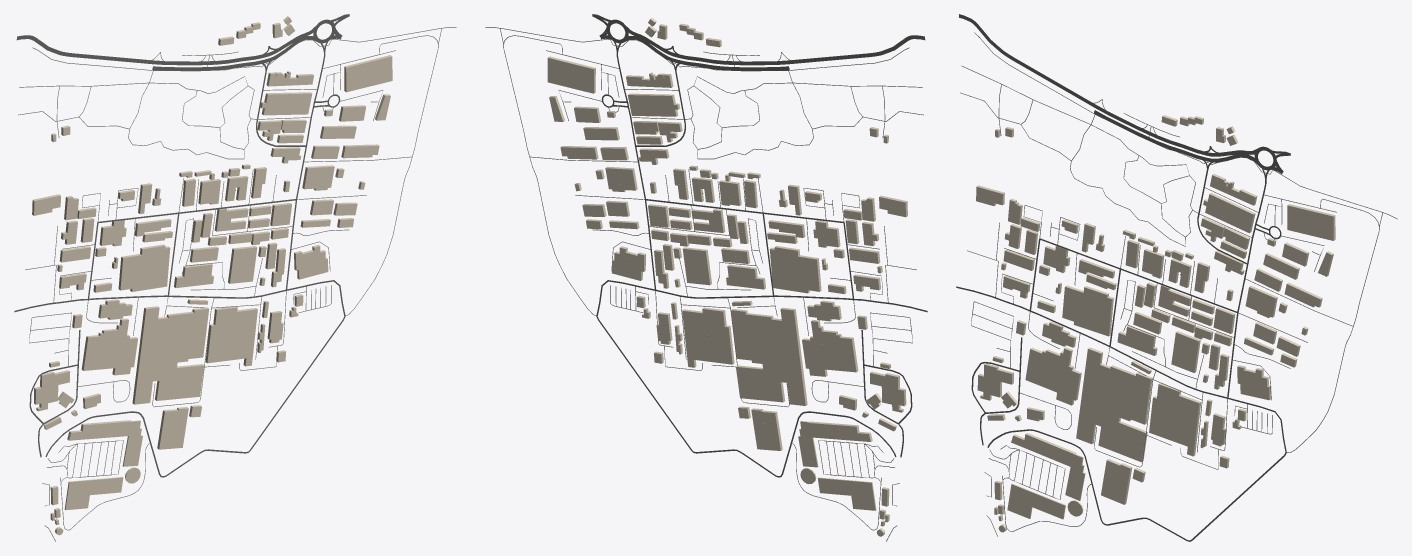
File: historic-palestine-14_37_3557_3319.glb
3 renders of one model, left to right at view 1: azimuth 30°, elevation 25°; view 2: azimuth 150°, elevation 25°; view 3: azimuth 330°, elevation 25°, orthographic.
Parts seen in each view (by area): view 1: Building_.033, Building_.043, Building_.028, Building_.064, Road הנרייטה סולד.001, Building_.004, Building_.001, Building_.013, Building_.007, Building_.003, Building_.019, Building_.040 (+10 smaller); view 2: Building_.033, Building_.043, Building_.028, Building_.064, Road הנרייטה סולד.001, Building_.004, Building_.001, Building_.013, Building_.007, Building_.003, Building_.019, Building_.040 (+10 smaller); view 3: Building_.033, Building_.043, Building_.028, Building_.064, Road הנרייטה סולד.001, Building_.004, Building_.001, Building_.013, Building_.007, Building_.003, Building_.019, Building_.096 (+10 smaller).
Boxes of the visible parts, x1,y1,x2,y2 form: Building_.033: [132, 306, 209, 404]; Building_.043: [205, 306, 257, 366]; Building_.028: [81, 318, 137, 375]; Building_.064: [118, 244, 170, 291]; Road הנרייטה סולד.001: [16, 26, 317, 65]; Building_.004: [344, 55, 392, 92]; Building_.001: [64, 477, 123, 510]; Building_.013: [260, 92, 312, 115]; Building_.007: [157, 407, 188, 449]; Building_.003: [67, 420, 132, 440]; Building_.019: [228, 246, 257, 283]; Building_.040: [34, 370, 70, 411]; Building_.033: [731, 307, 807, 405]; Building_.043: [682, 307, 734, 367]; Building_.028: [802, 320, 858, 376]; Building_.064: [769, 246, 821, 293]; Road הנרייטה סולד.001: [624, 26, 925, 65]; Building_.004: [547, 56, 595, 93]; Building_.001: [817, 477, 876, 510]; Building_.013: [627, 93, 680, 116]; Building_.007: [751, 408, 782, 450]; Building_.003: [807, 421, 872, 441]; Building_.019: [682, 247, 711, 285]; Building_.040: [870, 371, 906, 412]; Building_.033: [1076, 347, 1152, 462]; Building_.043: [1149, 383, 1201, 456]; Building_.028: [1025, 347, 1081, 405]; Building_.064: [1062, 285, 1113, 336]; Road הנרייטה סולד.001: [959, 14, 1258, 156]; Building_.004: [1287, 204, 1335, 240]; Building_.001: [1007, 483, 1065, 519]; Building_.013: [1203, 192, 1255, 233]; Building_.007: [1101, 459, 1132, 504]; Building_.003: [1011, 433, 1076, 466]; Building_.019: [1171, 331, 1200, 372]; Building_.096: [1237, 365, 1271, 400].
Bounding box in the file's own units: 1002 × 1115 × 8.7.
